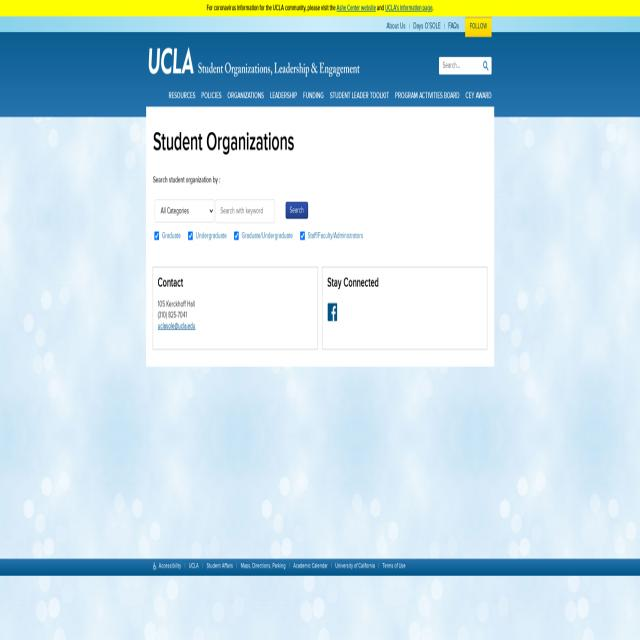button: (146, 41, 378, 79), (286, 202, 308, 219)
field: (439, 57, 491, 74)
